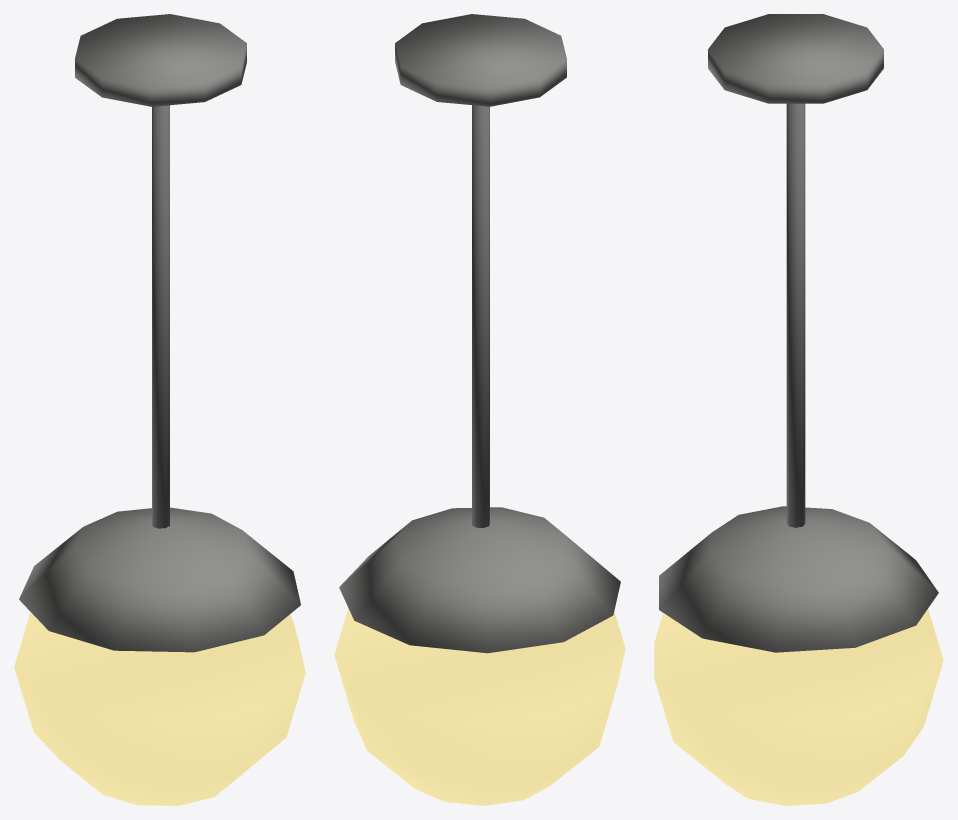
Rendered from Light_Ceiling2.glb.
3 views of the same model, side by side, from view 1: azimuth 30°, elevation 25°; view 2: azimuth 150°, elevation 25°; view 3: azimuth 270°, elevation 25° (orthographic).
Parts seen in each view (by area): view 1: Light_Ceiling2; view 2: Light_Ceiling2; view 3: Light_Ceiling2.
Part boxes in pixels (left/top/right/bottom): Light_Ceiling2: left=14, top=14, right=305, bottom=805; Light_Ceiling2: left=334, top=14, right=625, bottom=805; Light_Ceiling2: left=654, top=14, right=943, bottom=805.
Bounding box in the file's own units: 0.3608 × 1.01 × 0.3571.
